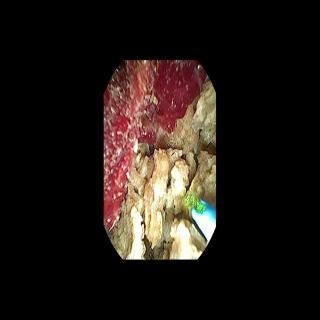fiber: (193, 199, 215, 239)
laser: (184, 196, 194, 208), (196, 201, 205, 210)
stone: (110, 78, 215, 257)
tissue: (105, 63, 204, 221)
